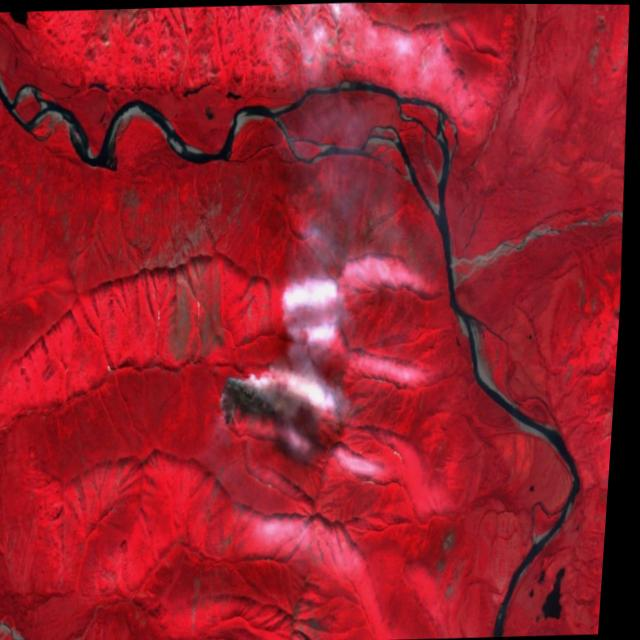fire: (219, 364, 288, 430)
